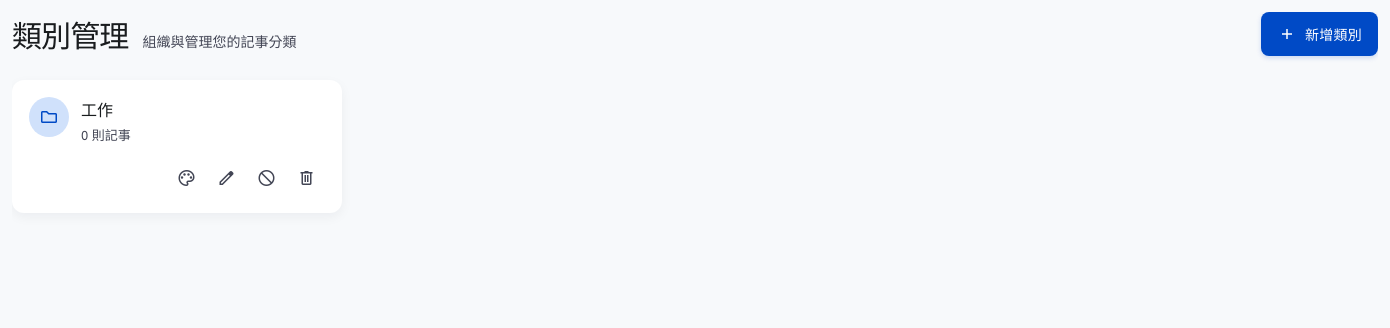
點選新增類別會開啟類別名稱表單
Click the button "新增類別" at (1319, 34), box [1261, 12, 1378, 56]
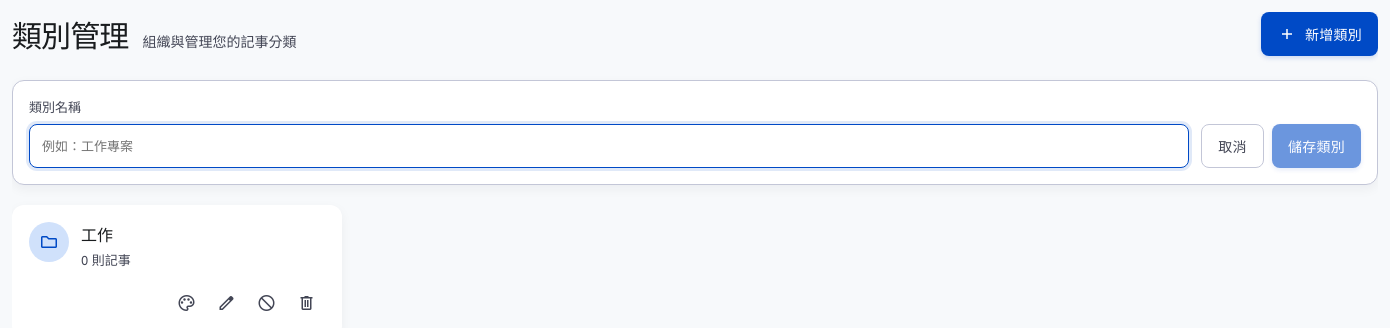
Result: the element named "新增類別" is shown at [12, 80, 1378, 185]
